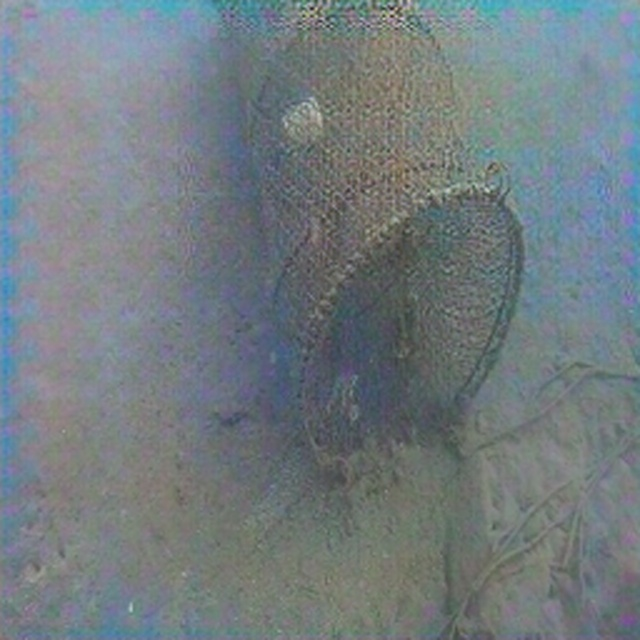mine: (212, 0, 526, 476)
